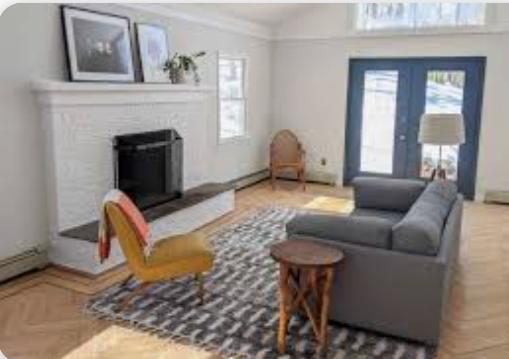carpet: (83, 187, 296, 359), (329, 323, 433, 358), (279, 314, 317, 358)
